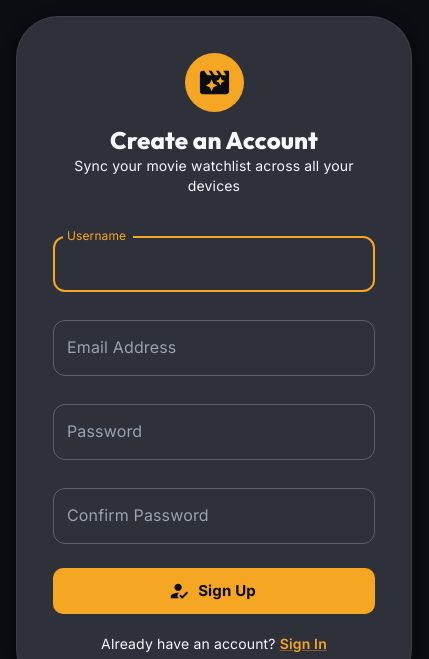
Test: Authentication Form Integration Tests › SignupPage › validates password mismatch on registration
This screenshot has width=429, height=659.
Type "cinephile99" into the field labelled "Username" at (214, 264), box [53,236,375,292]
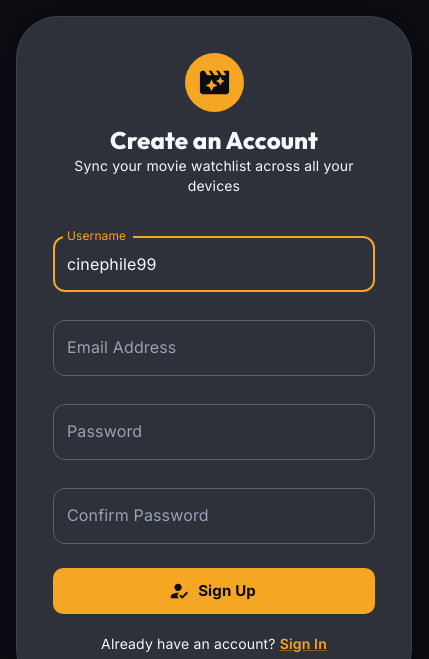
Type "cine@example.com" into the field labelled "Email Address" at (214, 348), box [53,320,375,376]
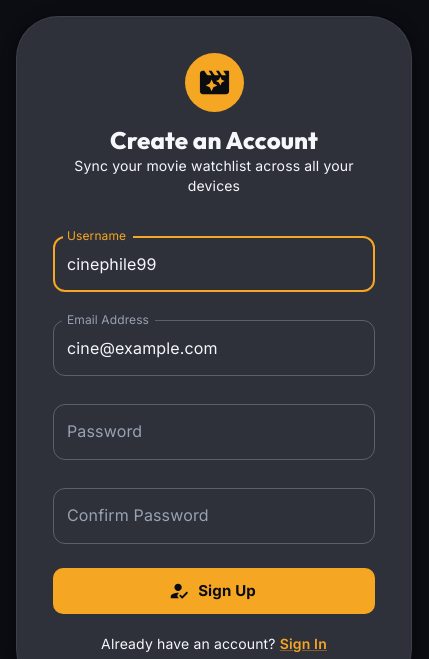
Type "secret123" into the password field labelled "Password" at (214, 432), box [53,404,375,460]
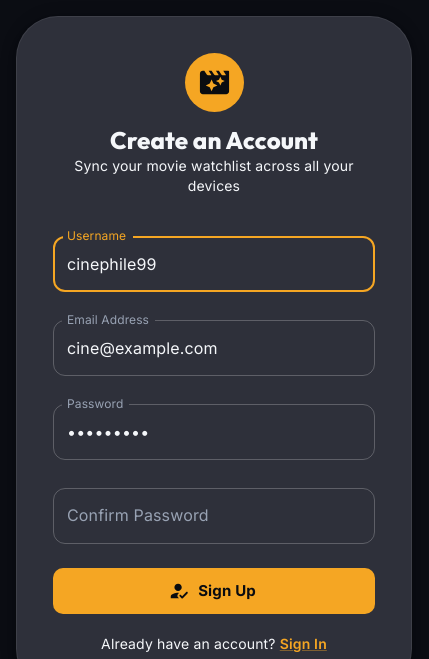
Type "different123" into the password field labelled "Confirm Password" at (214, 516), box [53,488,375,544]
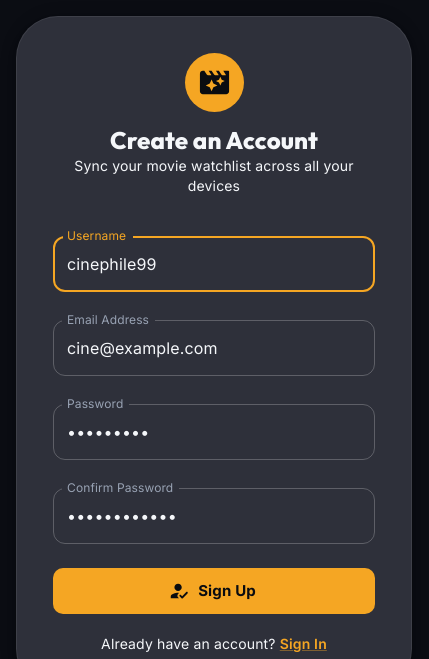
Click the button "Sign Up" at (214, 591), box [53,568,375,614]
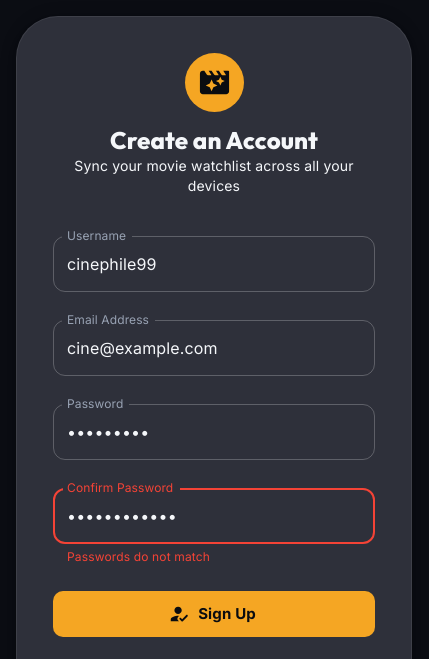
Expected: the text "Passwords do not match" is shown, [67,549,210,564]
